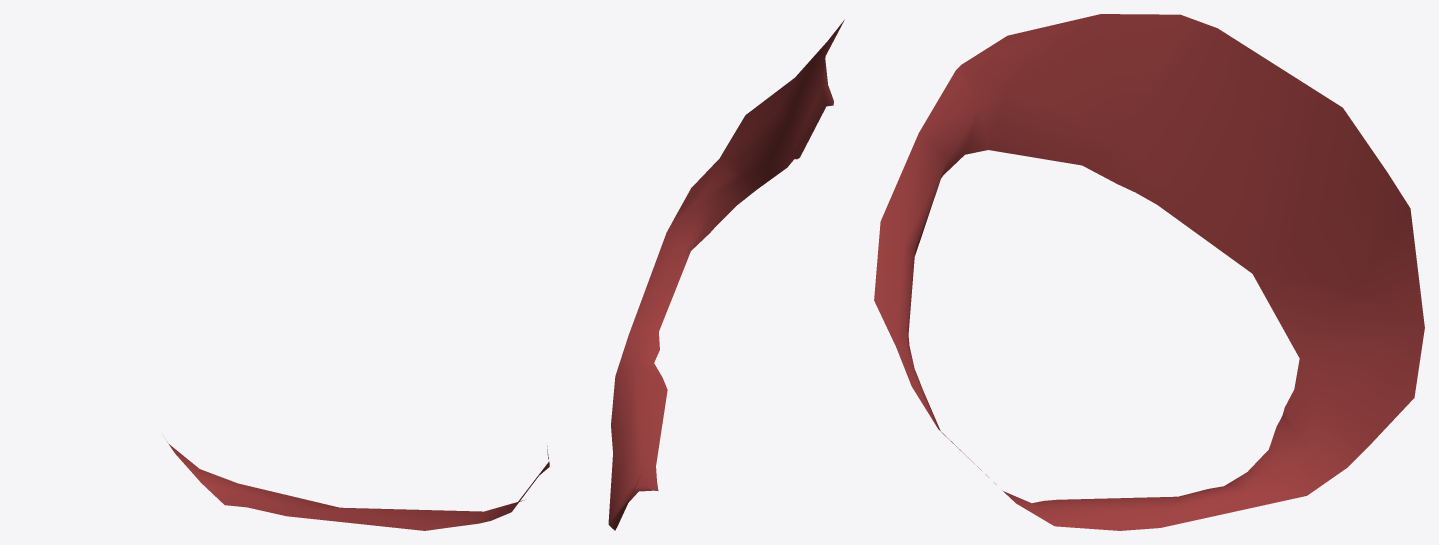
Rendered from obturator-internus-or.glb.
3 views of the same model, side by side, from view 1: azimuth 30°, elevation 25°; view 2: azimuth 150°, elevation 25°; view 3: azimuth 270°, elevation 25° (orthographic). The views are drawn at different scales.
Visible parts, largest first — view 1: Obturator internus.or; view 2: Obturator internus.or; view 3: Obturator internus.or.
Boxes of the visible parts, x1=… form: Obturator internus.or: x1=167, y1=442, x2=549, y2=530; Obturator internus.or: x1=608, y1=19, x2=844, y2=530; Obturator internus.or: x1=874, y1=14, x2=1424, y2=530.
Size of the model in its own units: 0.0332 by 0.0595 by 0.0681.
